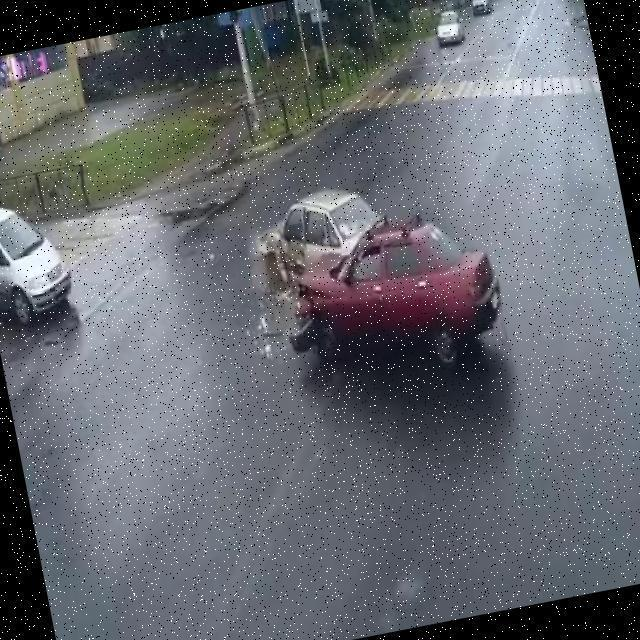accident: (250, 188, 398, 345)
